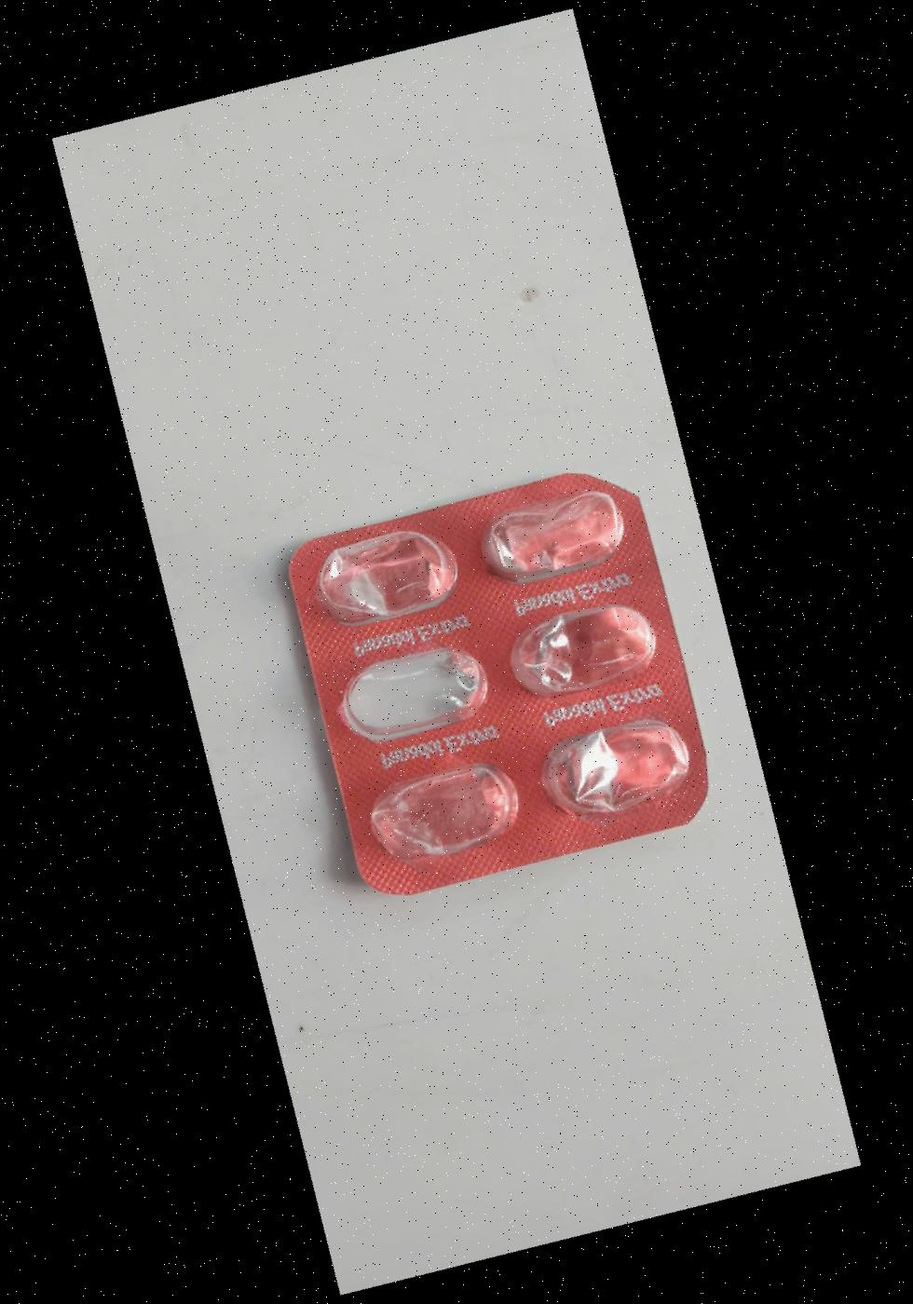Empty: (492, 590, 665, 712), (526, 708, 699, 830), (358, 755, 531, 877), (464, 479, 638, 600), (325, 632, 499, 753), (297, 517, 470, 638)
